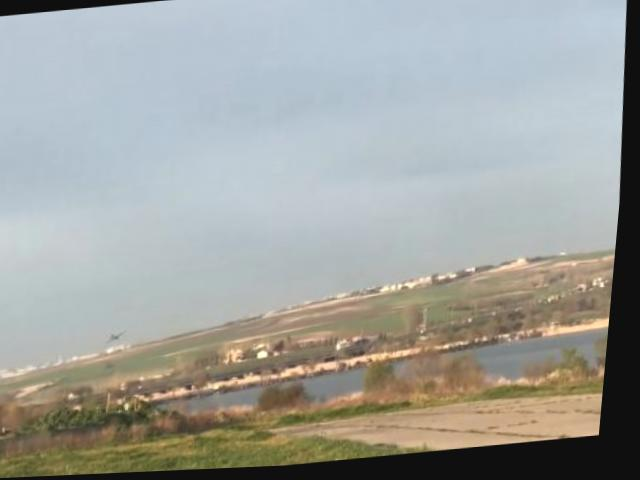uav: (111, 328, 133, 344)
